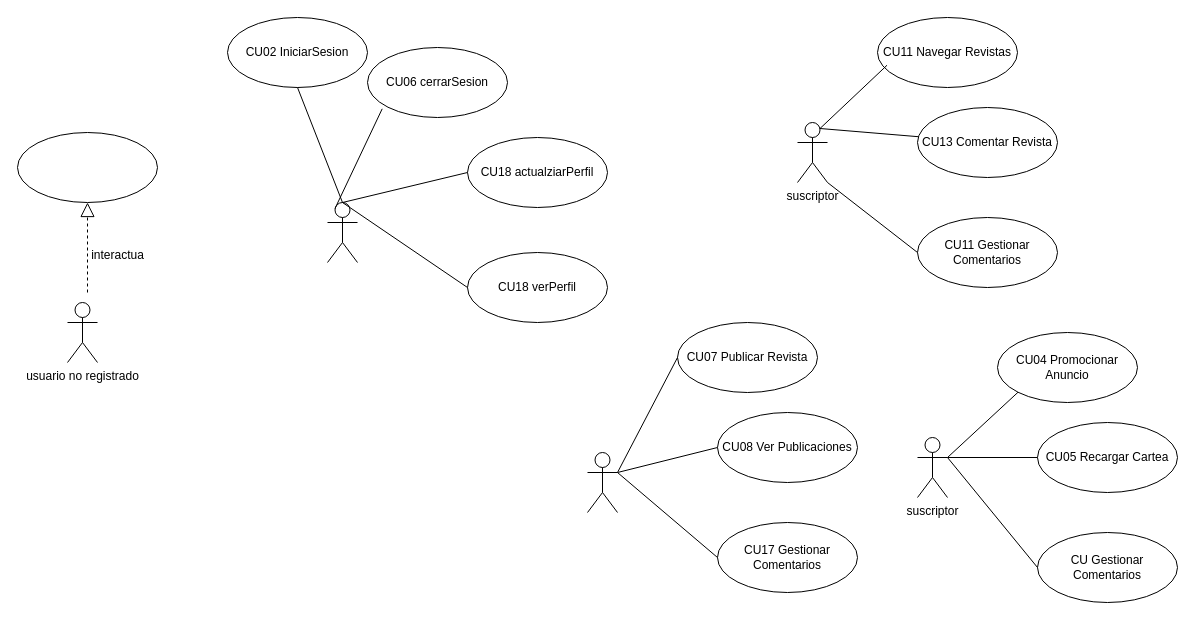
Some shapes in this 1195 by 620 pixel diagram are drawn without their labels. Each missing label, with the centre of its shape:
"CU Registrarse" goes at pixel 87 167.
"Editor" goes at pixel 602 482.
"usuario registrado" goes at pixel 342 232.
